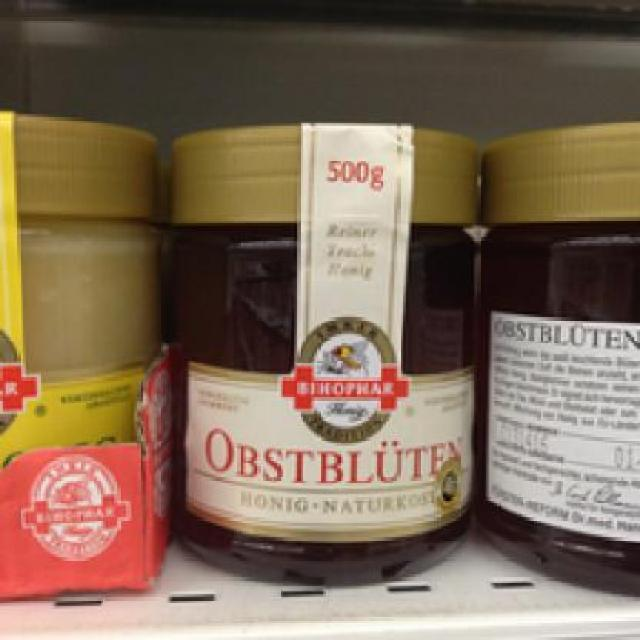Honey: (170, 120, 487, 586)
